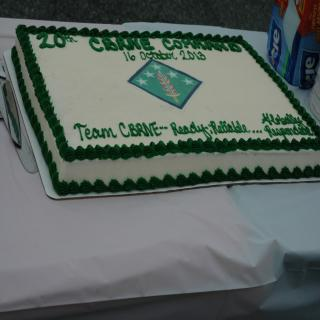Cake: (11, 22, 320, 196)
